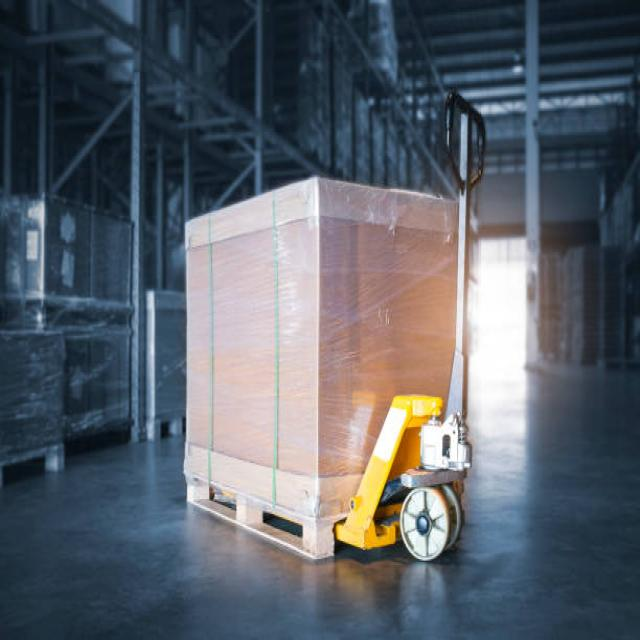Wooden-Pallets: (181, 468, 323, 567)
